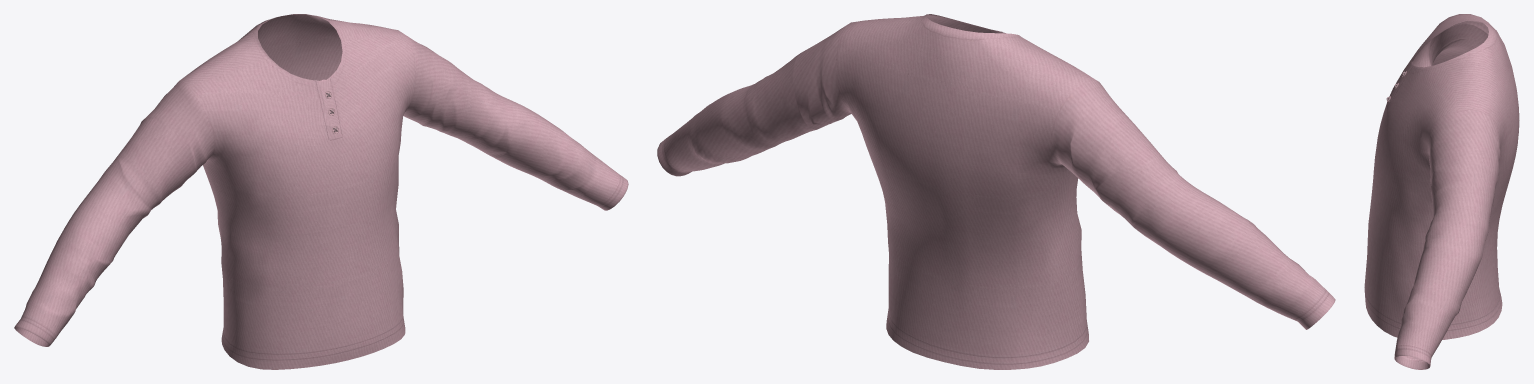
File: ponder_rickey_clothing.glb
3 renders of one model, left to right at view 1: azimuth 30°, elevation 25°; view 2: azimuth 150°, elevation 25°; view 3: azimuth 270°, elevation 25°, orthographic. The views are drawn at different scales.
Visible parts, largest first — view 1: shirt_low; view 2: shirt_low; view 3: shirt_low.
Boxes of the visible parts, x1=… form: shirt_low: x1=14, y1=14, x2=628, y2=369; shirt_low: x1=657, y1=14, x2=1335, y2=369; shirt_low: x1=1364, y1=14, x2=1519, y2=369.
Bounding box in the file's own units: 5.64 × 2.64 × 1.36.
Materials: 1 (1 with a texture image).
